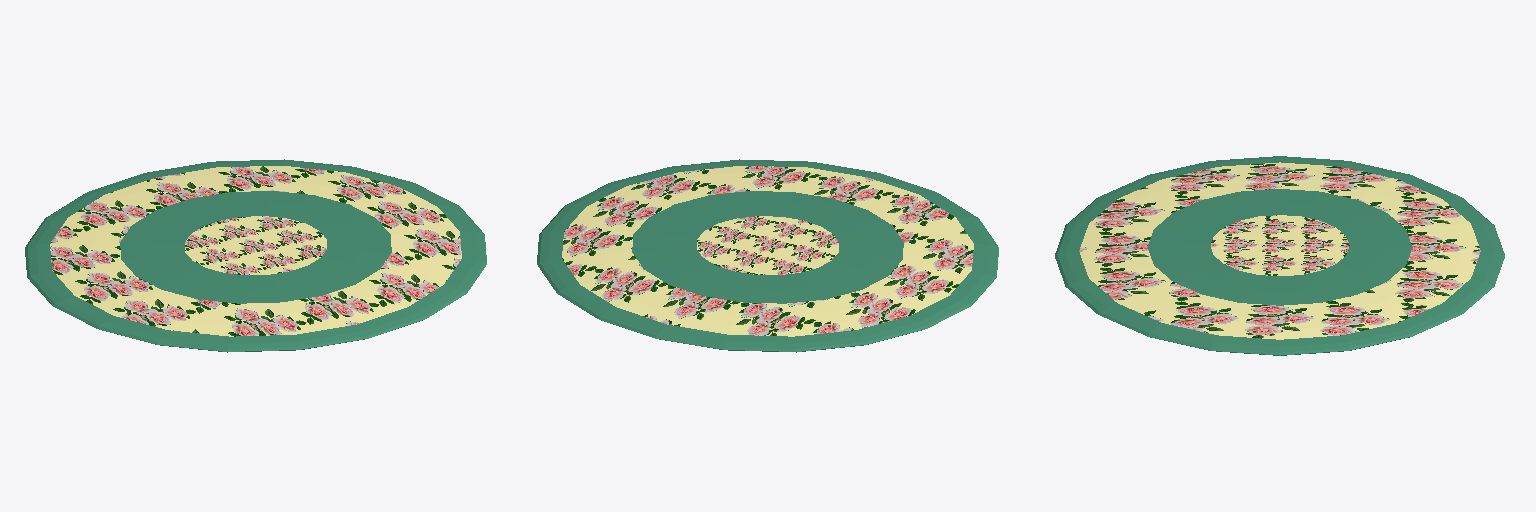
The picture shows the model from 3 angles: view 1: azimuth 30°, elevation 25°; view 2: azimuth 150°, elevation 25°; view 3: azimuth 270°, elevation 25°; orthographic projection.
Parts seen in each view (by area): view 1: pSphere1; view 2: pSphere1; view 3: pSphere1.
Part boxes in pixels (bbox=[...]): pSphere1: bbox=[25, 159, 486, 352]; pSphere1: bbox=[537, 159, 998, 352]; pSphere1: bbox=[1055, 156, 1504, 355].
Size of the model in its own units: 7.89 by 0.3985 by 7.56.
Materials: 2 (2 with a texture image).